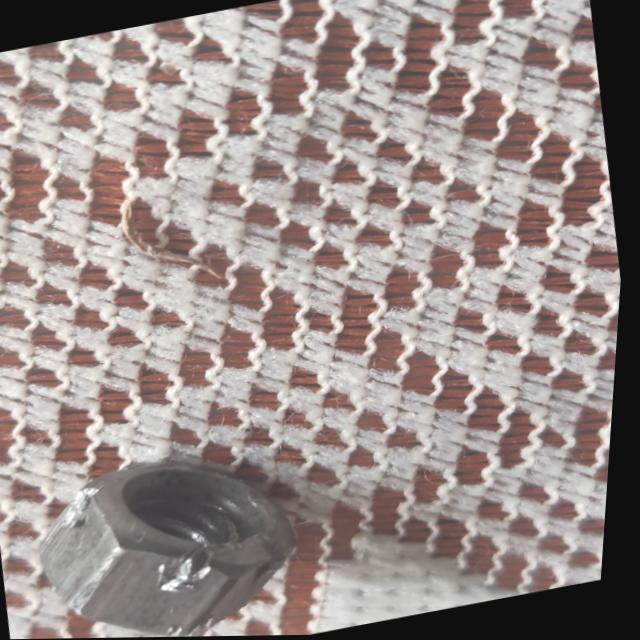infected nut: (47, 462, 301, 636)
